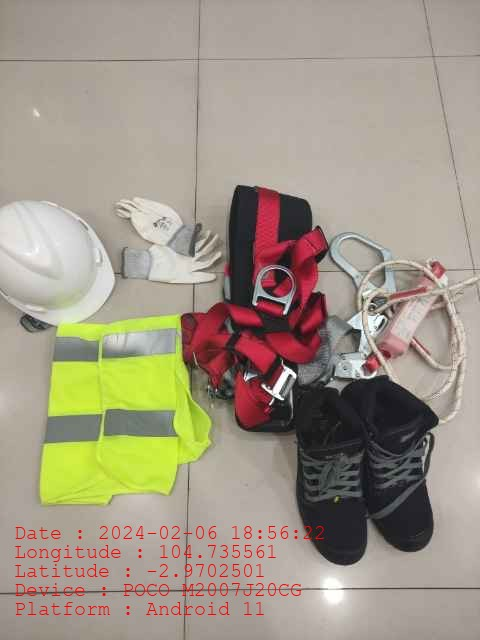ROMPI: (39, 315, 206, 506)
SARUNG_TANGAN: (113, 196, 204, 256)
TAMBANG_SLING: (327, 229, 465, 382)
